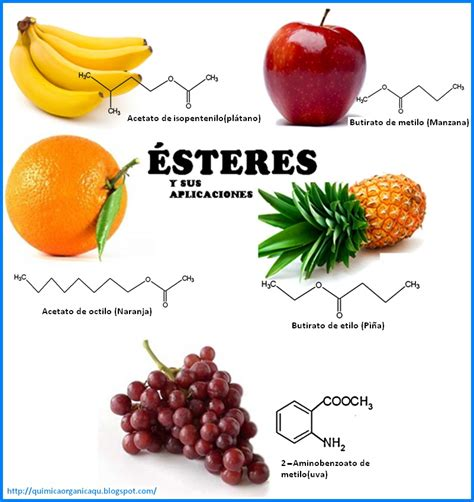apple: (260, 20, 369, 128)
orange: (4, 133, 129, 259)
